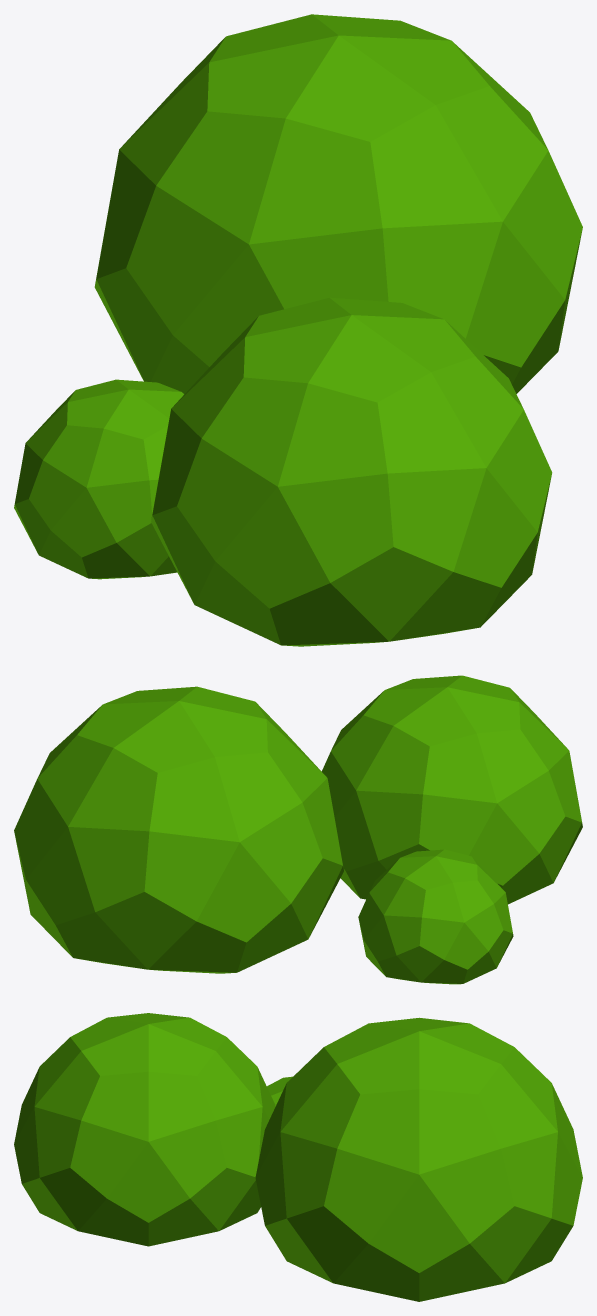
File: Grm01.glb
3 renders of one model, top to bottom at view 1: azimuth 30°, elevation 25°; view 2: azimuth 150°, elevation 25°; view 3: azimuth 270°, elevation 25°, orthographic. The views are drawn at different scales.
Visible parts, largest first — view 1: Bush.005; view 2: Bush.005; view 3: Bush.005.
Part boxes in pixels (x1,y1,x2,y2): Bush.005: (14,14,582,646); Bush.005: (14,675,582,984); Bush.005: (14,1013,582,1301).
Size of the model in its own units: 0.1817 by 0.1094 by 0.2231.
